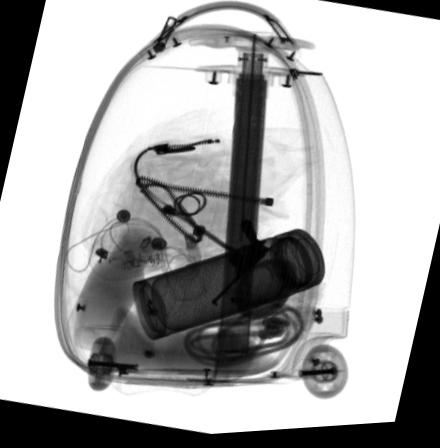Gun: (208, 221, 271, 310)
